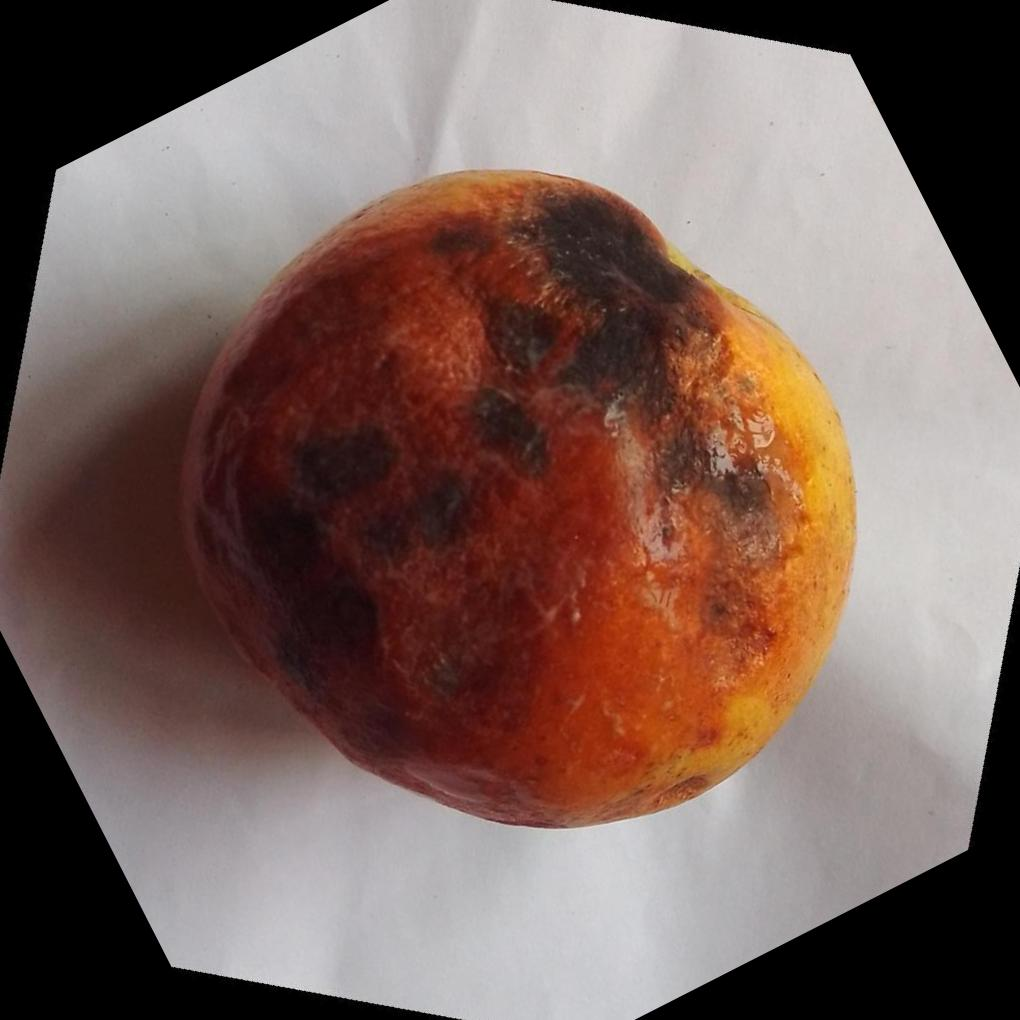FreshOrange: (167, 167, 856, 833)
